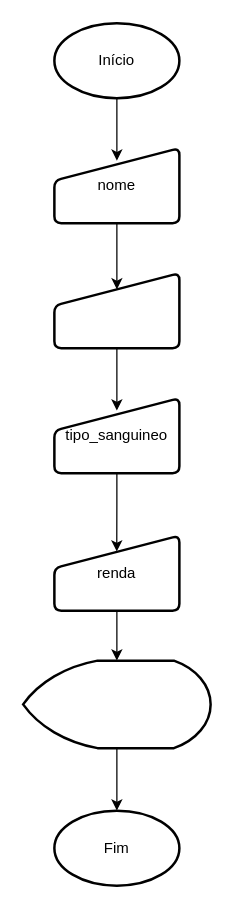
This 233x908 diagram has some shape labels left out. The shapes that lost their labels are listed below. From the top down, each one's centre as x and y in pixels, then its label:
At point (116, 310): "ano_nasc".
At point (116, 704): "Nome ano_nasc tipo_sanguineo renda".
